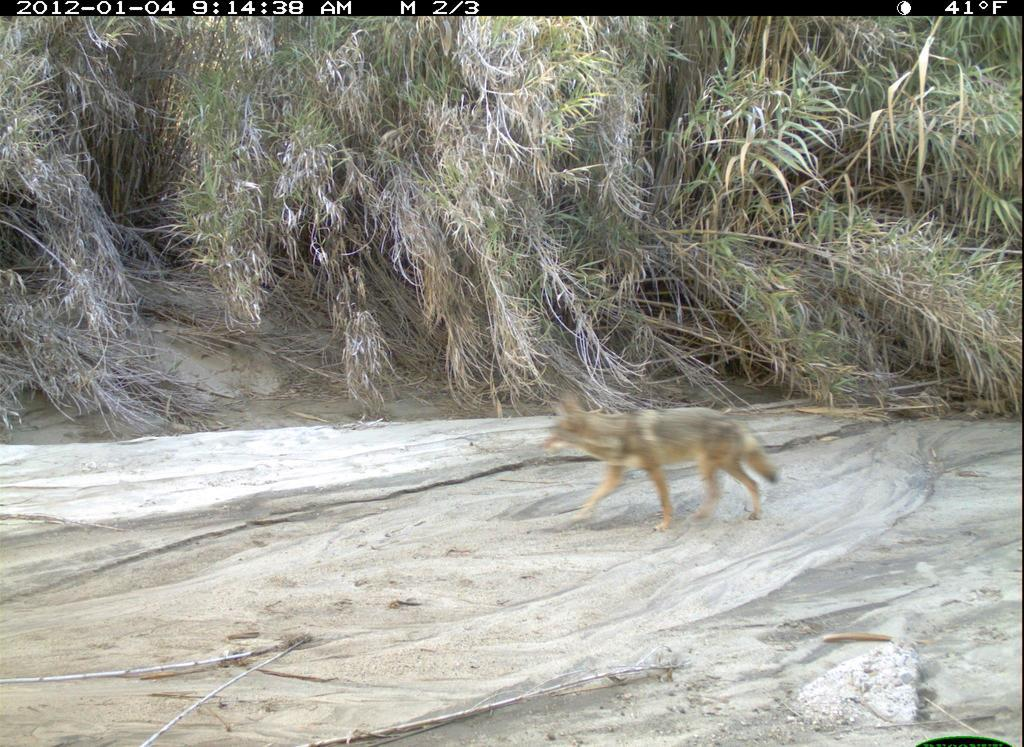coyote: (541, 391, 786, 533)
